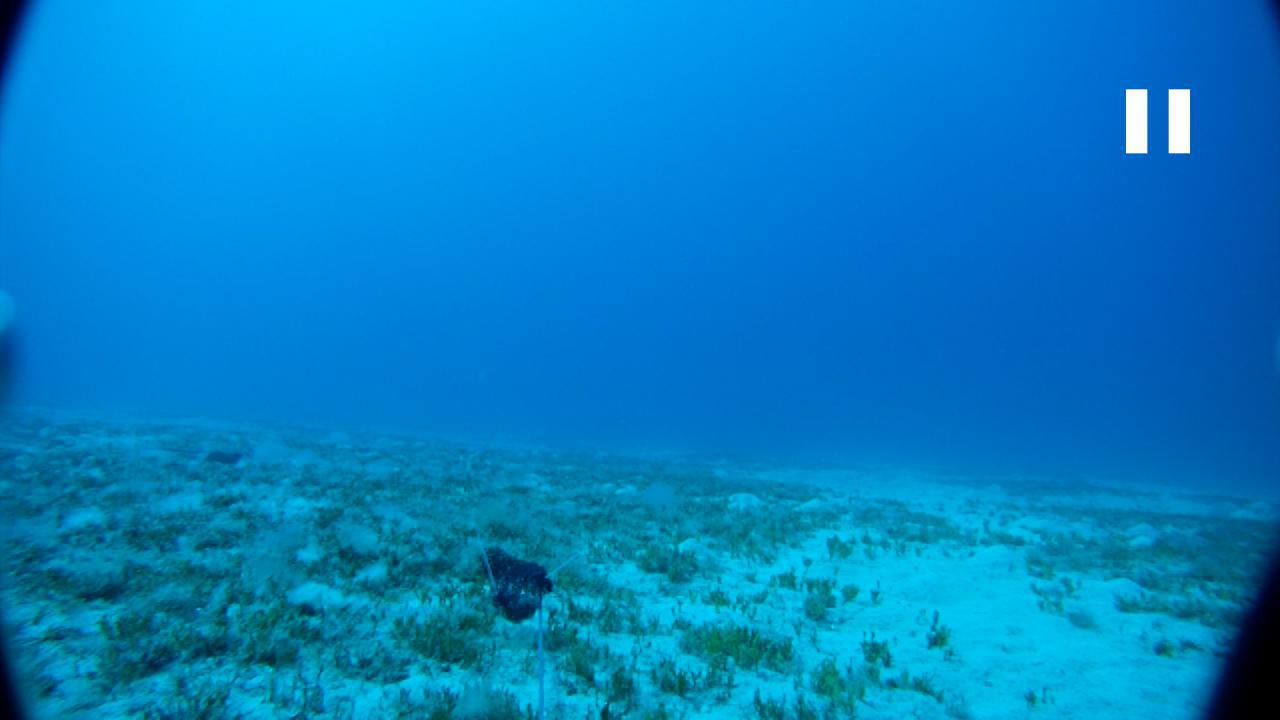dasyatis: (153, 442, 252, 466)
